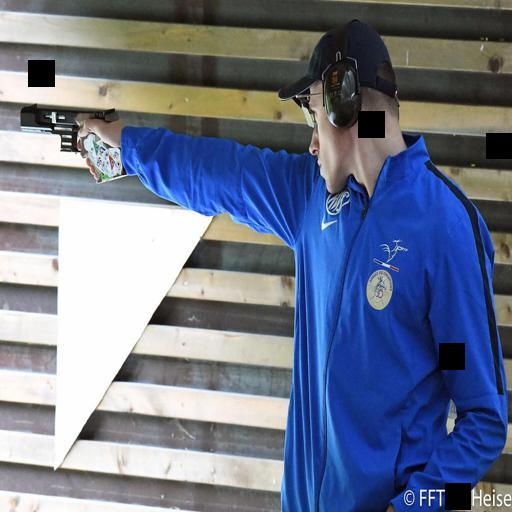Handgun: (15, 95, 133, 183)
